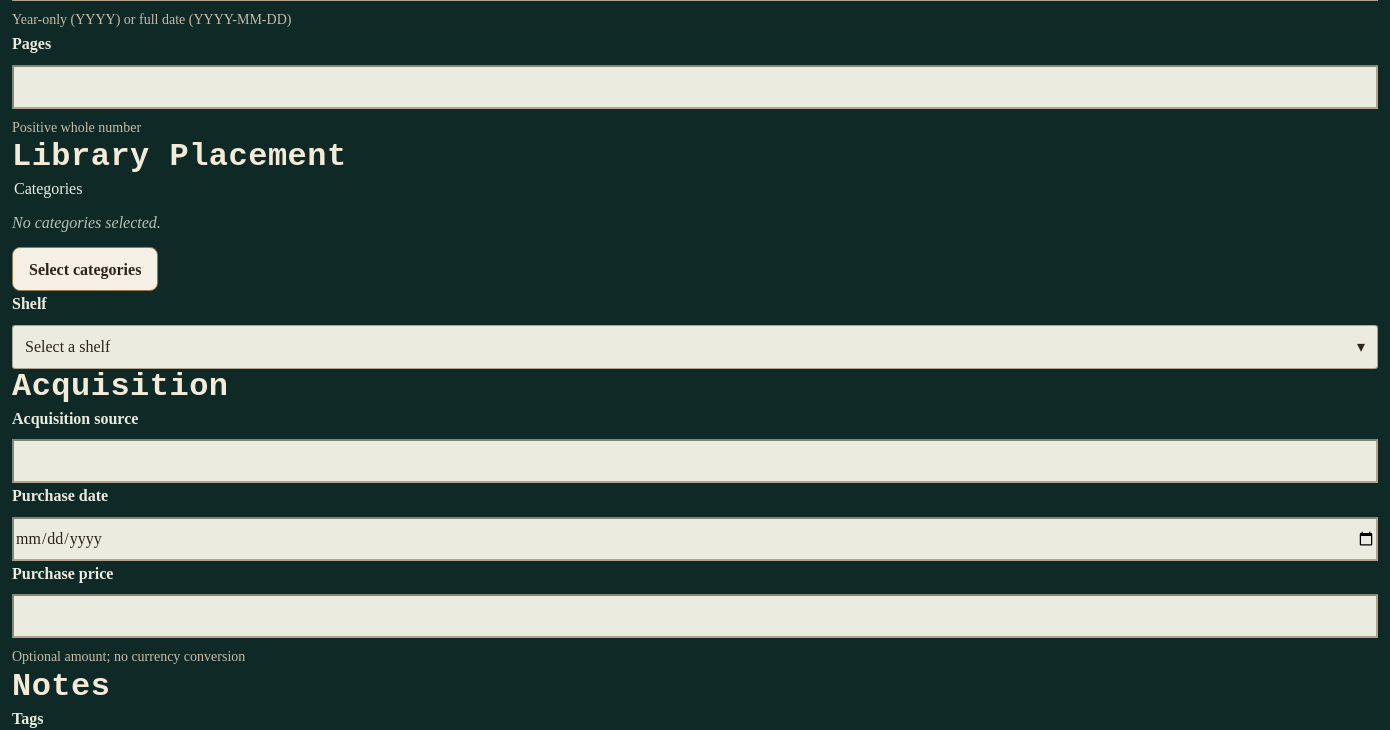
BookForm › shows Title Case shelf labels and excludes removed from create options
(page scrolled)
Click the button labelled "Select a shelf ▾". click: (68, 347)
box: left=12, top=325, right=1378, bottom=369
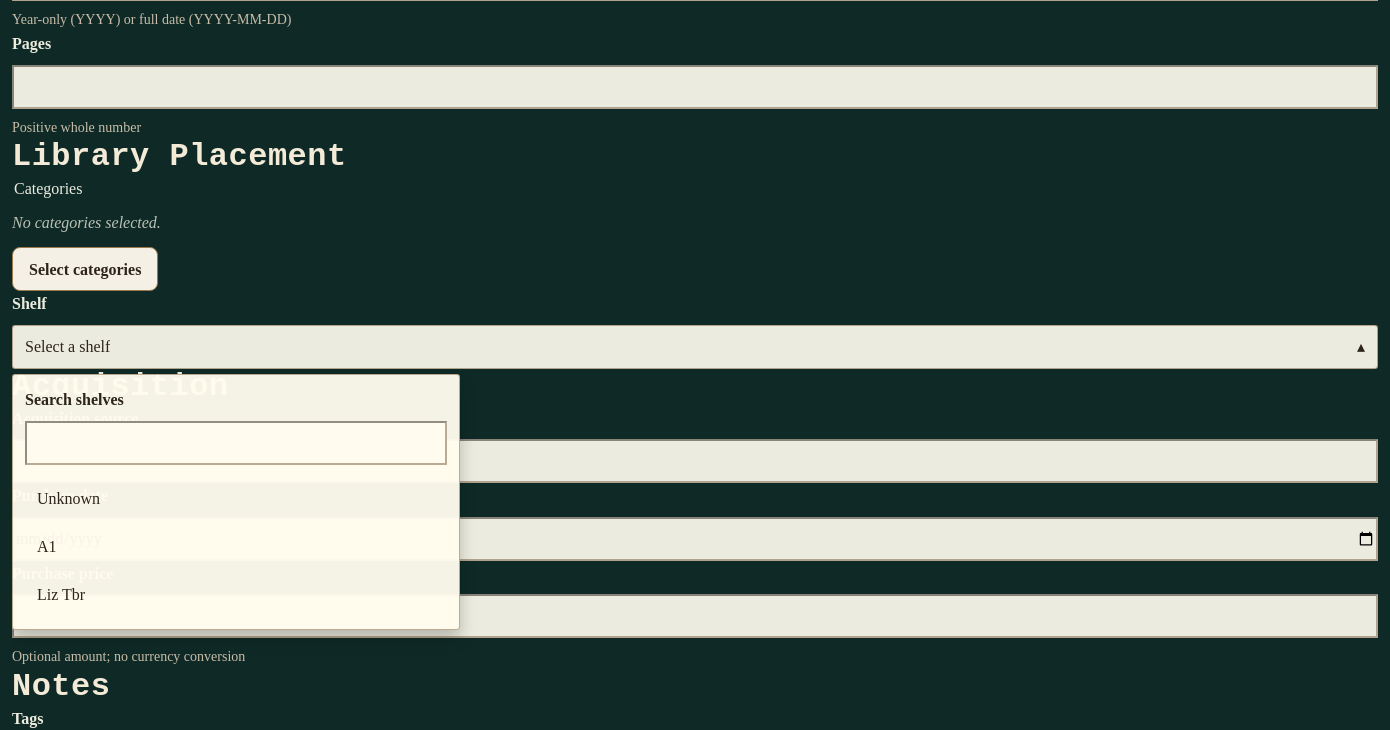
Now the button "Unknown" is shown, box left=25, top=477, right=447, bottom=521
Now the button "A1" is shown, box left=25, top=525, right=447, bottom=569
